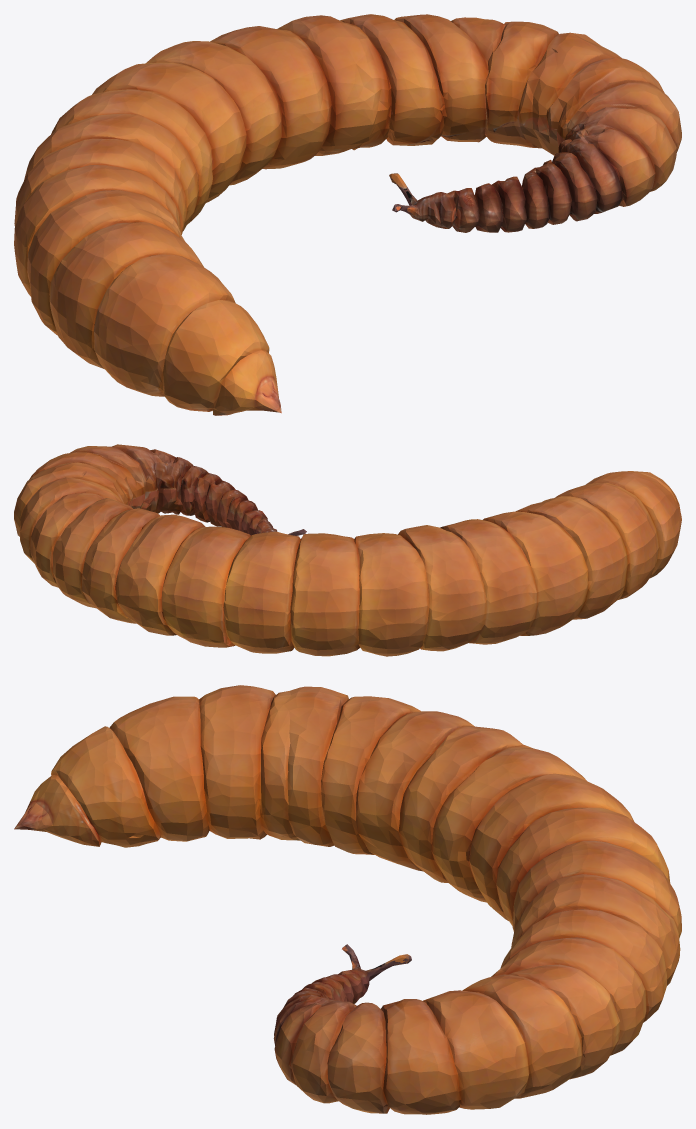
The model's file is Create_a_3d_model_of__0402184345_texture.fbx.
The picture shows the model from 3 angles, top to bottom: view 1: azimuth 30°, elevation 25°; view 2: azimuth 150°, elevation 25°; view 3: azimuth 270°, elevation 25°; orthographic projection. The views are drawn at different scales.
Visible parts, largest first — view 1: temp; view 2: temp; view 3: temp.
Boxes of the visible parts, <box> form: temp: <box>14,14,681,415</box>; temp: <box>14,444,681,656</box>; temp: <box>14,685,681,1114</box>.
Size of the model in its own units: 200 by 37.73 by 165.
1 material, 1 textured.
